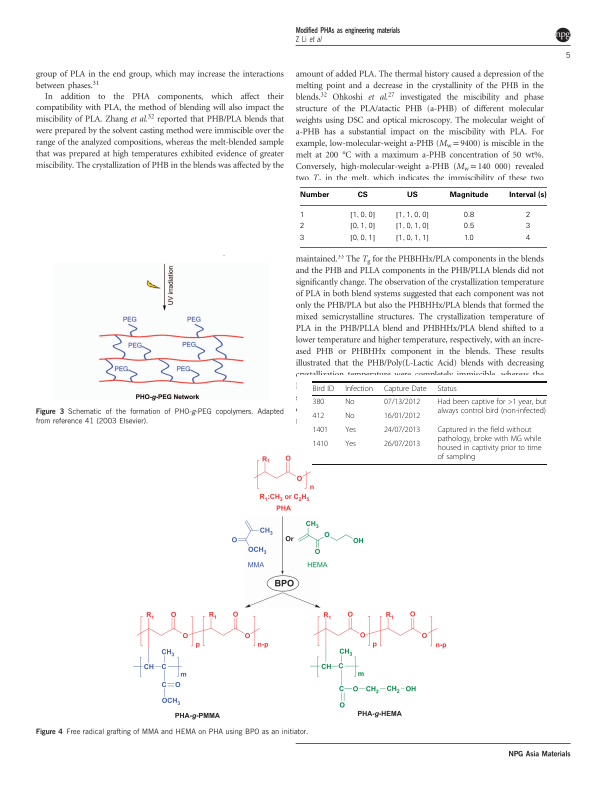borderless: (312, 380, 547, 464), (299, 185, 547, 247)
cell: (436, 425, 542, 462), (436, 397, 547, 416), (383, 384, 427, 393), (383, 397, 421, 407), (383, 411, 421, 421), (383, 425, 421, 435), (383, 439, 421, 449), (448, 191, 489, 200), (508, 191, 547, 200), (394, 210, 429, 219), (394, 233, 429, 242), (298, 191, 330, 200), (394, 222, 429, 230), (344, 384, 374, 393), (349, 210, 376, 219), (349, 233, 376, 242), (349, 222, 376, 230), (312, 384, 335, 393), (436, 384, 458, 393), (312, 425, 329, 435), (312, 439, 329, 449), (312, 397, 325, 407), (312, 411, 325, 421), (344, 425, 357, 435), (344, 439, 357, 449), (405, 191, 418, 200), (344, 397, 355, 407), (344, 411, 355, 421), (356, 191, 368, 200), (462, 210, 475, 218), (462, 222, 475, 229), (463, 233, 474, 241), (298, 210, 305, 218), (524, 210, 530, 218), (299, 233, 305, 241), (524, 233, 530, 241), (299, 222, 305, 229), (524, 222, 530, 229)
